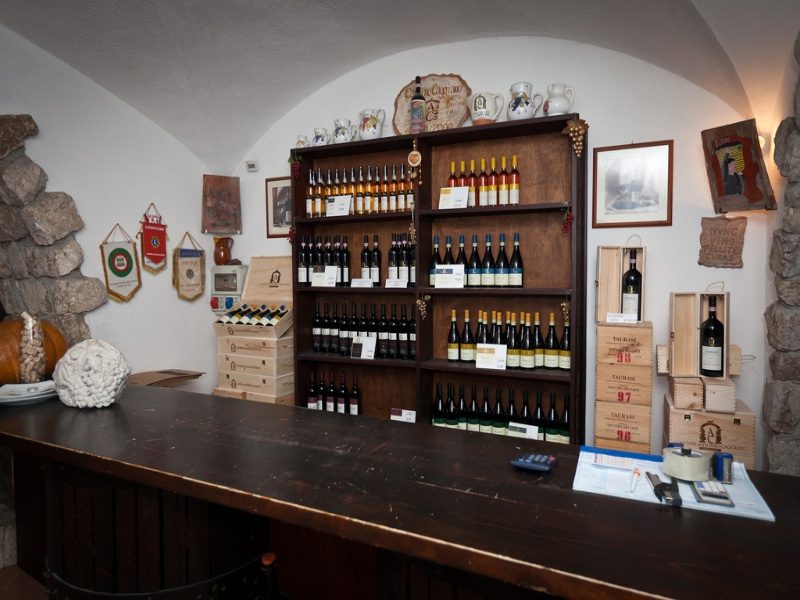wine: (427, 135, 575, 450), (282, 143, 417, 420), (672, 285, 756, 458), (214, 251, 295, 407), (596, 239, 654, 453), (404, 67, 435, 143)
